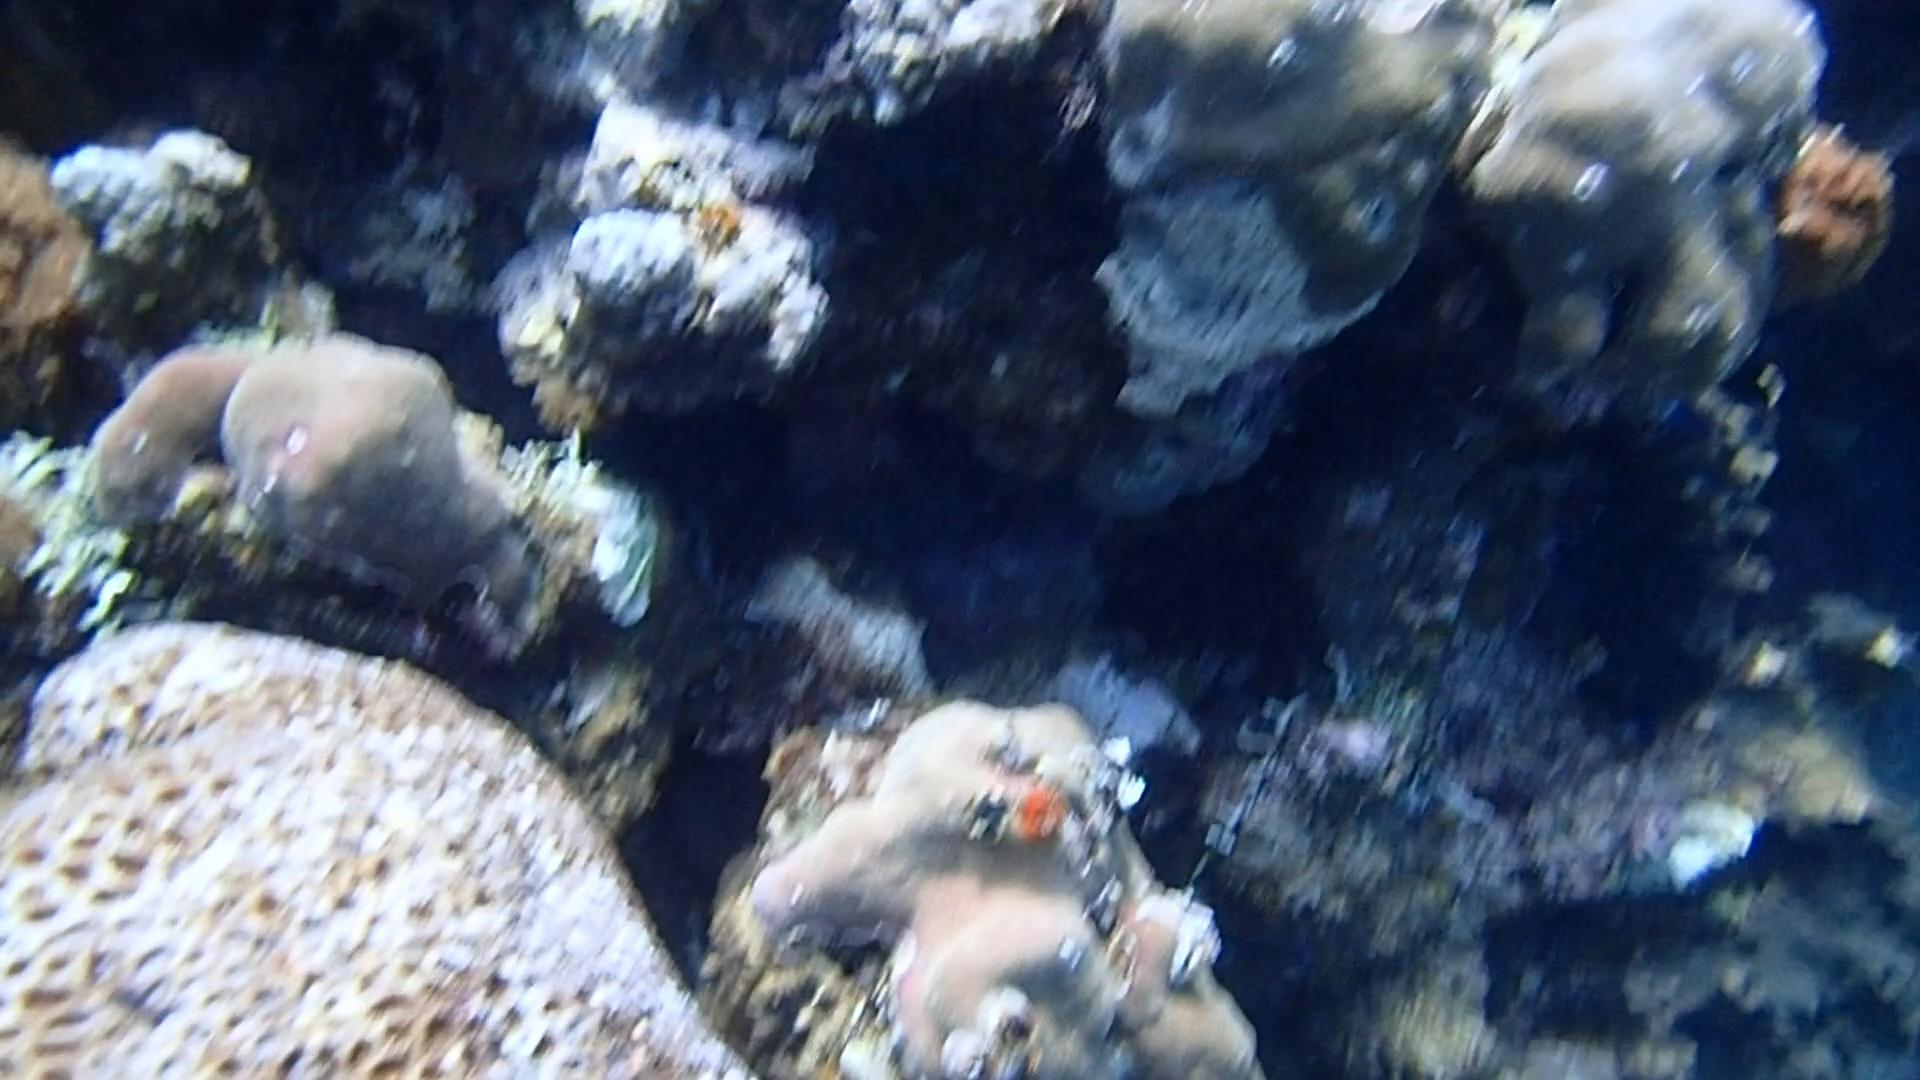Dark Fish: (1712, 345, 1791, 427)
